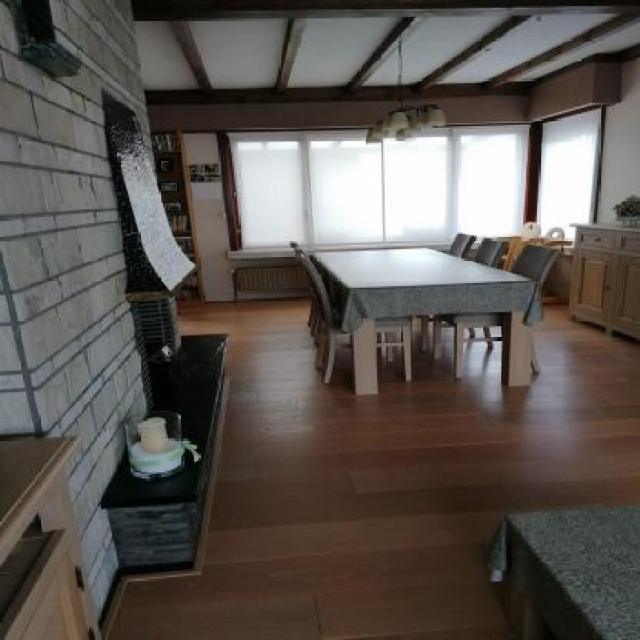Floor: (106, 296, 640, 640)
